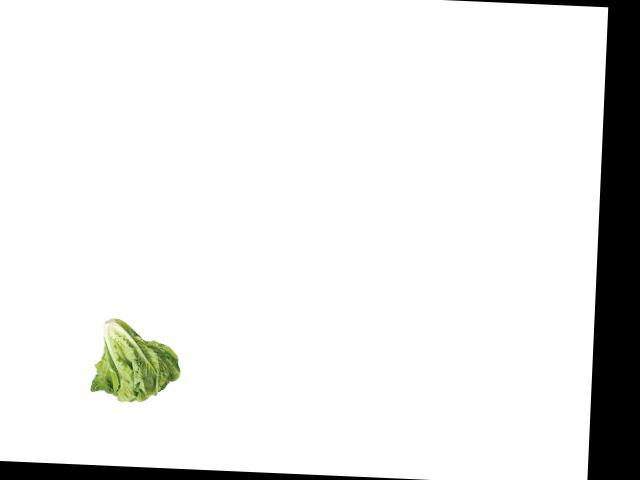lettuce: (87, 312, 184, 407)
